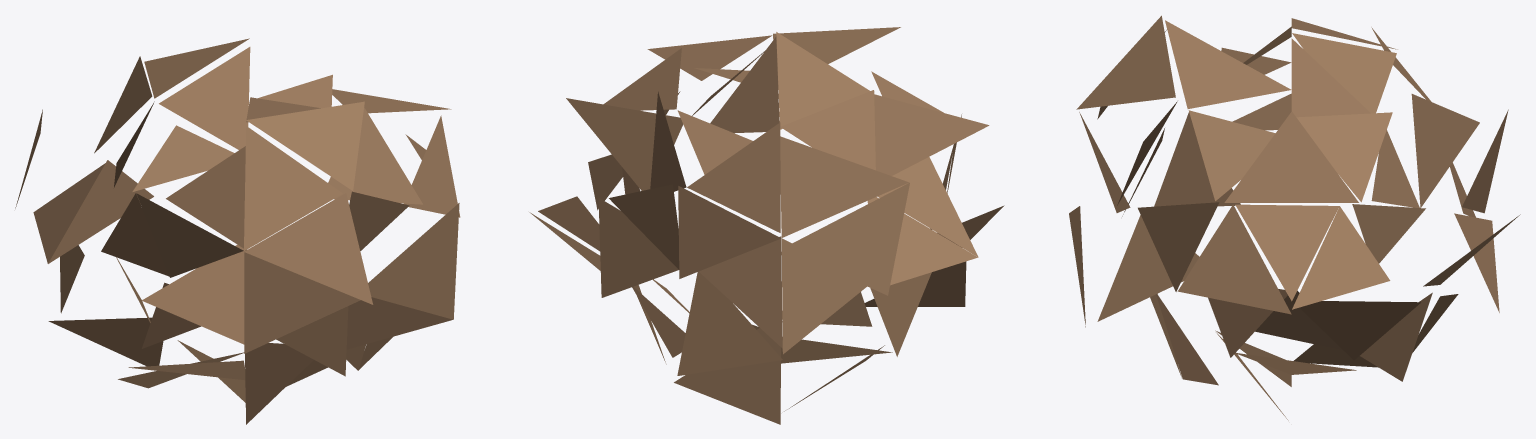
The model's file is iron.glb.
The picture shows the model from 3 angles, left to right: view 1: azimuth 30°, elevation 25°; view 2: azimuth 150°, elevation 25°; view 3: azimuth 270°, elevation 25°; orthographic projection. The views are drawn at different scales.
Parts seen in each view (by area): view 1: iron; view 2: iron; view 3: iron.
Boxes of the visible parts, x1,y1,x2,y2 form: iron: [15, 38, 460, 424]; iron: [529, 27, 1004, 424]; iron: [1069, 15, 1520, 420].
Size of the model in its own units: 2.35 by 2.07 by 2.36.
